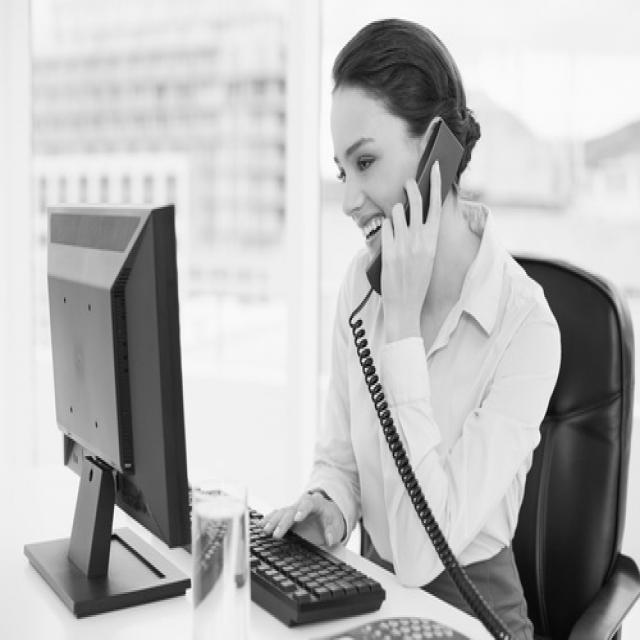phone: (346, 101, 464, 302)
